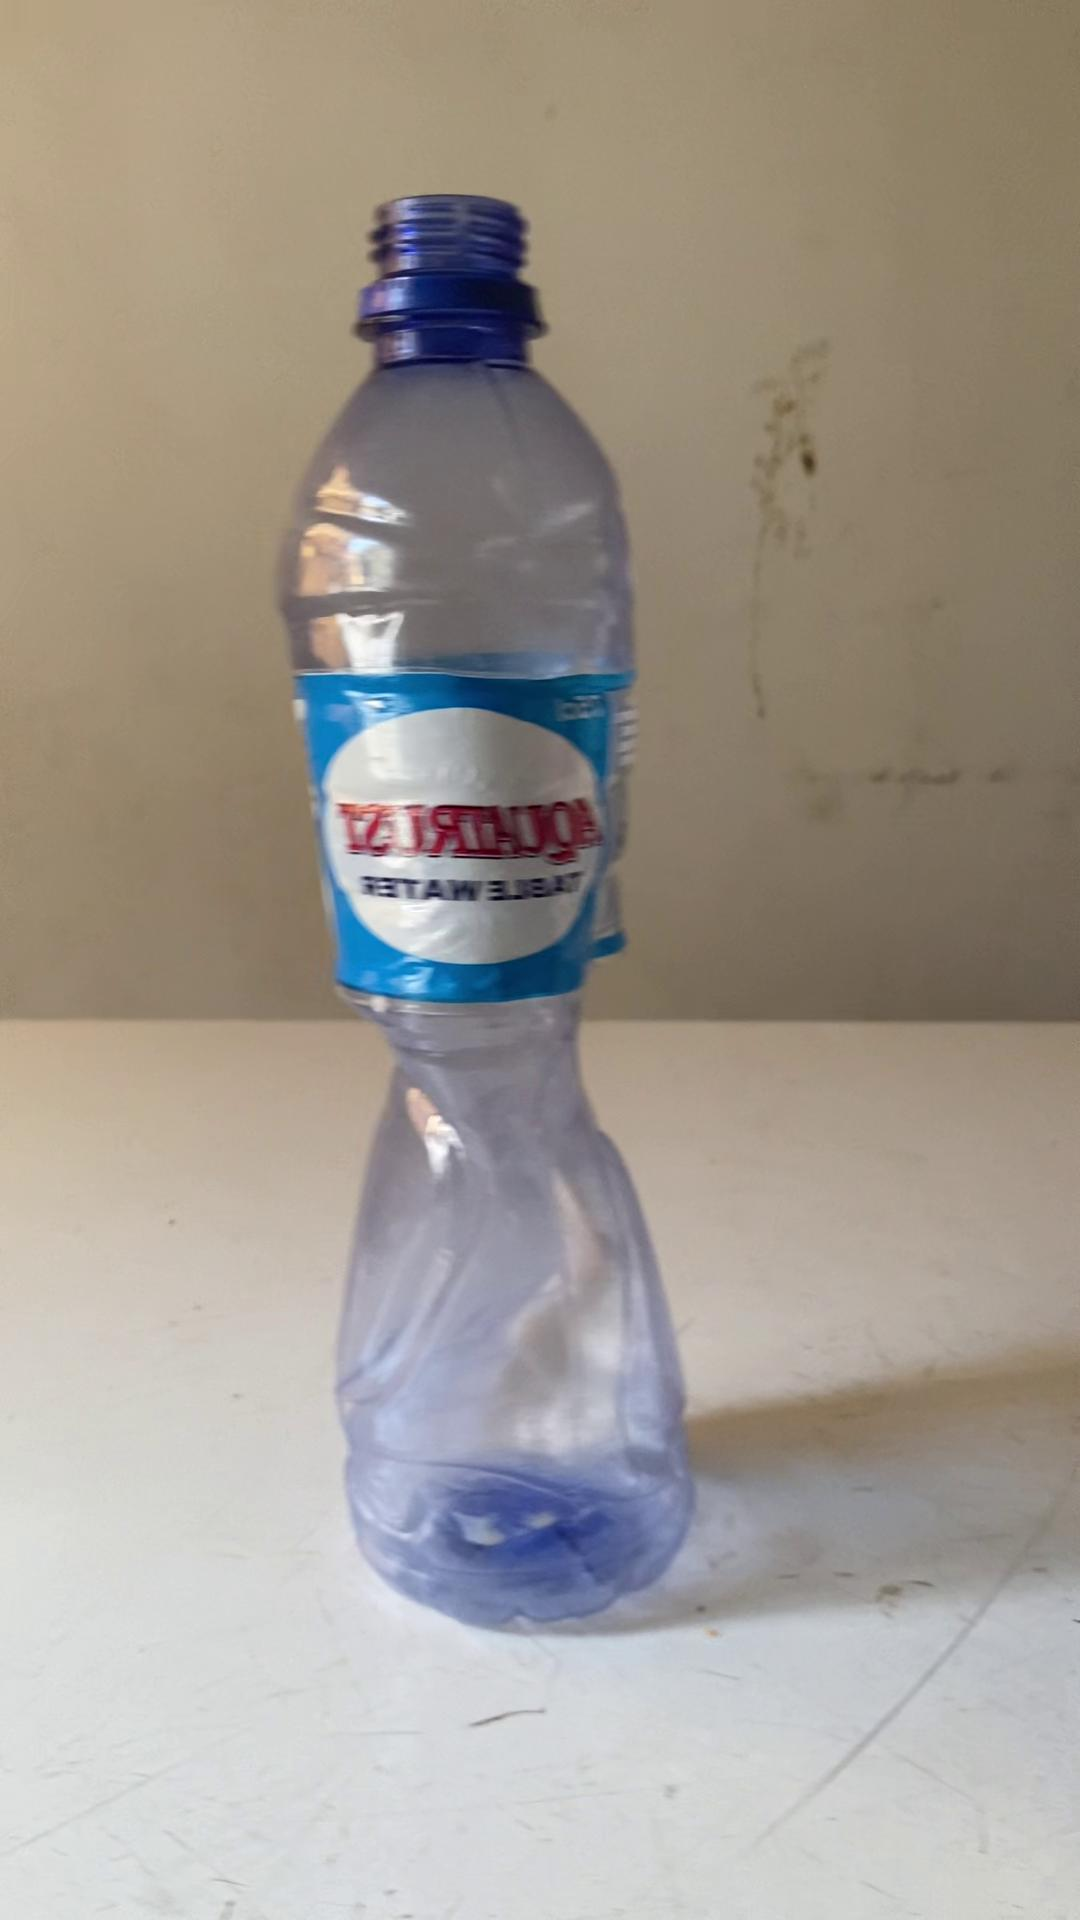crumbled: (274, 182, 705, 1640)
label: (322, 667, 626, 1001)
no-cap: (352, 185, 542, 324)
